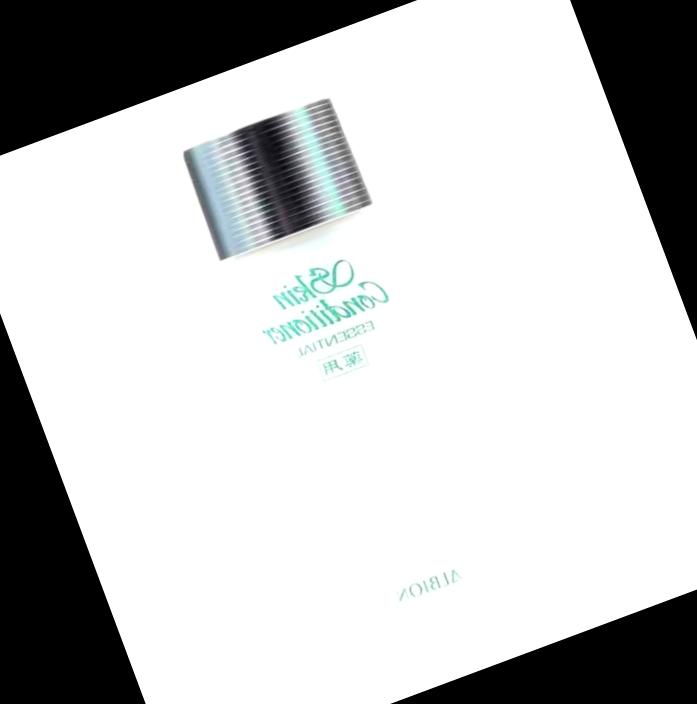cosmetic: (176, 88, 530, 661)
